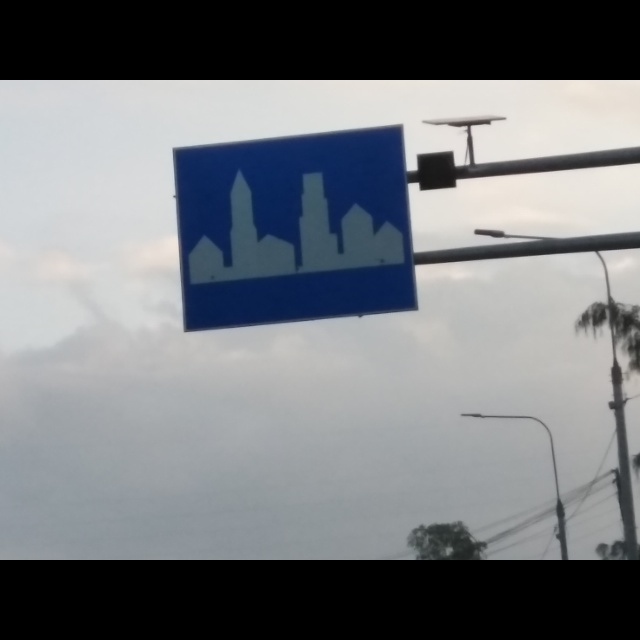Khu đông dân cư: (174, 123, 428, 335)
